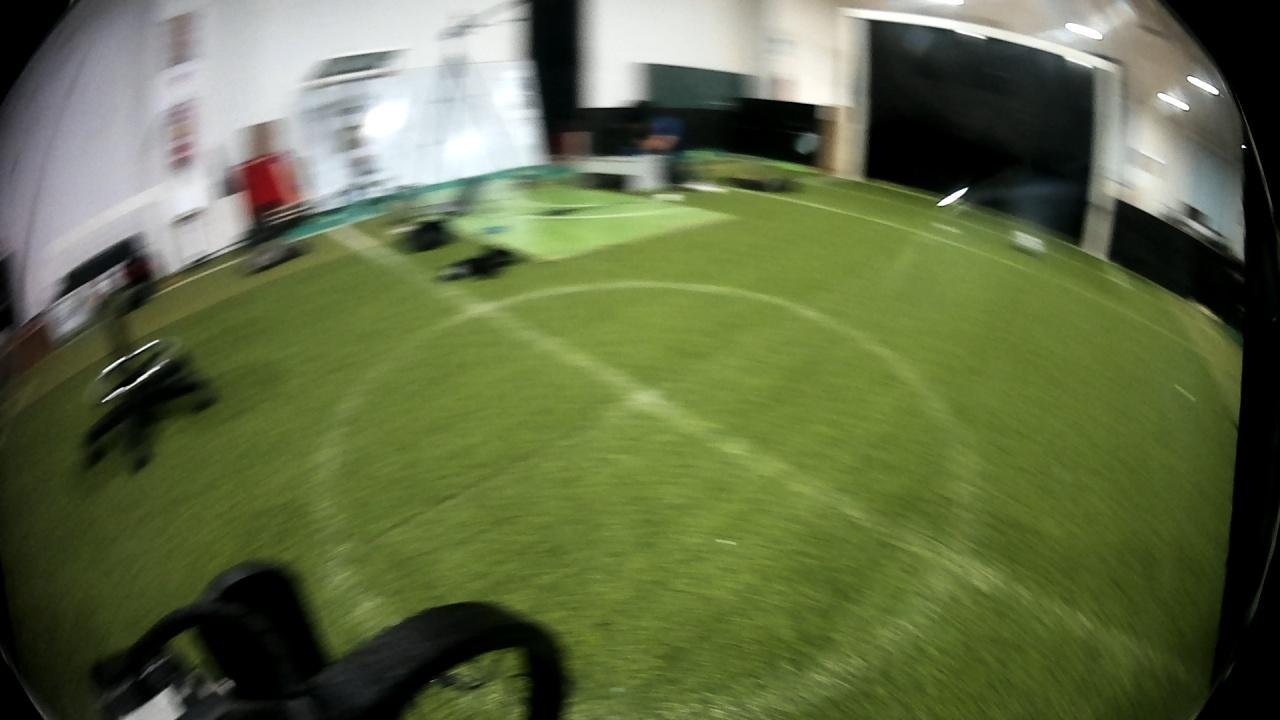ball: (1003, 221, 1048, 260)
